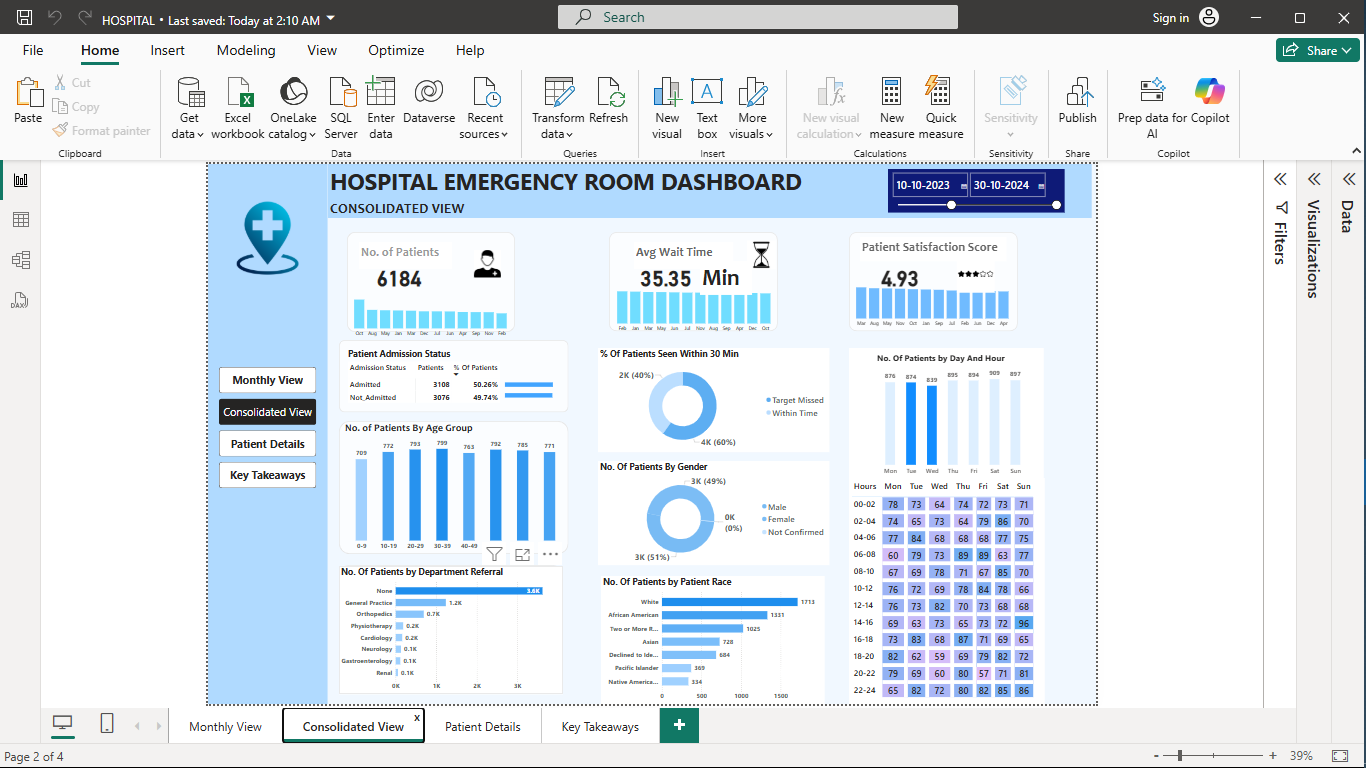

What the dashboard file says about the page in this screenshot:
{"tool":"powerbi","page":{"name":"Consolidated View","canvas":[2300,1400],"ordinal":1},"visuals":[{"type":"shape","box":[0,0,310,1400],"z":0},{"type":"shape","box":[310,0,1980,140],"z":1000},{"type":"textbox","box":[310,0,1247.5,100],"z":2000},{"type":"textbox","box":[310,70,375,107.5],"z":3000},{"type":"shape","box":[360.4,176.3,435.6,259.3],"z":4000},{"type":"card","fields":{"Values":["Date Table.No. Of Patients"]},"box":[412.2,238.5,165.9,101.1],"z":5000},{"type":"slicer","fields":{"Values":["Date Table.Date"]},"box":[1762.5,12.5,457.5,112.5],"z":6000},{"type":"textbox","box":[391.5,202.2,241.1,70],"z":7000},{"type":"clusteredColumnChart","fields":{"Y":["Date Table.No. Of Patients"],"Category":["Date Table.Month"]},"box":[360.4,321.5,433,134.8],"z":8000},{"type":"shape","box":[1040,175,437.5,257.5],"z":9000},{"type":"shape","box":[1662.5,177.5,437.5,257.5],"z":10000},{"type":"textbox","box":[1104.4,202.2,256.7,70],"z":11000},{"type":"card","fields":{"Values":["Avg(Hospital ER_Data.Patient Waittime)"]},"box":[1104.4,238.5,165.9,101.1],"z":12000},{"type":"clusteredColumnChart","fields":{"Category":["Date Table.Month"],"Y":["Avg(Hospital ER_Data.Patient Waittime)"]},"box":[1042.5,307.5,435,135],"z":13000},{"type":"textbox","box":[1275.6,251.5,134.8,88.1],"z":14000},{"type":"textbox","box":[1690,190,380,62.5],"z":15000},{"type":"card","fields":{"Values":["Avg(Hospital ER_Data.Patient Satisfaction Score)"]},"box":[1710,237.5,165,102.5],"z":16000},{"type":"clusteredColumnChart","fields":{"Category":["Date Table.Month"],"Y":["Avg(Hospital ER_Data.Patient Satisfaction Score)"]},"box":[1662.5,295,432.5,135],"z":17000},{"type":"shape","box":[340,457.5,595,187.5],"z":18000},{"type":"pivotTable","title":"Patient Admission Status","fields":{"Rows":["Hospital ER_Data.Admission Status"],"Values":["Date Table.No. Of Patients1","Date Table.No. Of Patients"]},"box":[357.5,477.5,407.5,150],"z":19000},{"type":"barChart","fields":{"Category":["Hospital ER_Data.Admission Status"],"Y":["Date Table.No. Of Patients"]},"box":[765,540,170,87.5],"z":20000},{"type":"shape","box":[340,667.5,595,345],"z":21000},{"type":"clusteredColumnChart","title":"No. of Patients By Age Group","fields":{"Category":["Hospital ER_Data.Age Interval"],"Y":["Date Table.No. Of Patients"]},"box":[350,667.5,585,345],"z":22000},{"type":"shape","box":[340,1040,580,335],"z":23000},{"type":"clusteredBarChart","fields":{"Y":["Date Table.No. Of Patients"],"Category":["Hospital ER_Data.Department Referral"]},"box":[340,1042.5,580,332.5],"z":24000},{"type":"shape","box":[1010,477.5,600,270],"z":25000},{"type":"donutChart","title":"% Of Patients Seen Within 30 Min","fields":{"Category":["Hospital ER_Data.Wait Time status"],"Y":["Date Table.No. Of Patients"]},"box":[1010,477.5,600,270],"z":26000},{"type":"donutChart","title":"No. Of Patients By Gender","fields":{"Y":["Date Table.No. Of Patients"],"Category":["Hospital ER_Data.Patient Gender"]},"box":[1010,770,600,270],"z":27000},{"type":"clusteredBarChart","fields":{"Y":["Date Table.No. Of Patients"],"Category":["Hospital ER_Data.Patient Race"]},"box":[1020,1067.5,580,332.5],"z":28000},{"type":"textbox","box":[1662.5,477.5,505,922.5],"z":29000},{"type":"pivotTable","fields":{"Rows":["Hospital ER_Data.HourInterval"],"Columns":["Date Table.Day Name"],"Values":["Date Table.No. Of Patients"]},"box":[1665,815,505,585],"z":30000},{"type":"columnChart","title":"No. Of Patients by Day And Hour","fields":{"Category":["Date Table.Day Name"],"Y":["Date Table.No. Of Patients"]},"box":[1730,487.5,405,327.5],"z":31000},{"type":"image","box":[1392.5,185,85,102.5],"z":32000},{"type":"image","box":[685,202.5,80,112.5],"z":33000},{"type":"image","box":[55,62.5,200,260],"z":34000},{"type":"image","box":[1932.5,230,117.5,107.5],"z":35000},{"type":"pageNavigator","box":[27.5,525,252.5,315],"z":36000}]}

Visuals, with their boxes on the page's 2300x1400 design canvas (x1, y1, x2, y2). These are canvas units, not pixel positions in the 1366x768 screenshot, which may show the page scaled, cropped or inside an application window:
shape: detection(0, 0, 310, 1400)
shape: detection(310, 0, 2290, 140)
textbox: detection(310, 0, 1558, 100)
textbox: detection(310, 70, 685, 178)
shape: detection(360, 176, 796, 436)
card - Date Table.No. Of Patients: detection(412, 238, 578, 340)
slicer - Date Table.Date: detection(1762, 12, 2220, 125)
textbox: detection(392, 202, 633, 272)
clusteredColumnChart - Date Table.No. Of Patients x Date Table.Month: detection(360, 322, 793, 456)
shape: detection(1040, 175, 1478, 432)
shape: detection(1662, 178, 2100, 435)
textbox: detection(1104, 202, 1361, 272)
card - Avg(Hospital ER_Data.Patient Waittime): detection(1104, 238, 1270, 340)
clusteredColumnChart - Date Table.Month x Avg(Hospital ER_Data.Patient Waittime): detection(1042, 308, 1478, 442)
textbox: detection(1276, 252, 1410, 340)
textbox: detection(1690, 190, 2070, 252)
card - Avg(Hospital ER_Data.Patient Satisfaction Score): detection(1710, 238, 1875, 340)
clusteredColumnChart - Date Table.Month x Avg(Hospital ER_Data.Patient Satisfaction Score): detection(1662, 295, 2095, 430)
shape: detection(340, 458, 935, 645)
"Patient Admission Status" pivotTable: detection(358, 478, 765, 628)
barChart - Hospital ER_Data.Admission Status x Date Table.No. Of Patients: detection(765, 540, 935, 628)
shape: detection(340, 668, 935, 1012)
"No. of Patients By Age Group" clusteredColumnChart: detection(350, 668, 935, 1012)
shape: detection(340, 1040, 920, 1375)
clusteredBarChart - Date Table.No. Of Patients x Hospital ER_Data.Department Referral: detection(340, 1042, 920, 1375)
shape: detection(1010, 478, 1610, 748)
"% Of Patients Seen Within 30 Min" donutChart: detection(1010, 478, 1610, 748)
"No. Of Patients By Gender" donutChart: detection(1010, 770, 1610, 1040)
clusteredBarChart - Date Table.No. Of Patients x Hospital ER_Data.Patient Race: detection(1020, 1068, 1600, 1400)
textbox: detection(1662, 478, 2168, 1400)
pivotTable - Hospital ER_Data.HourInterval x Date Table.Day Name: detection(1665, 815, 2170, 1400)
"No. Of Patients by Day And Hour" columnChart: detection(1730, 488, 2135, 815)
image: detection(1392, 185, 1478, 288)
image: detection(685, 202, 765, 315)
image: detection(55, 62, 255, 322)
image: detection(1932, 230, 2050, 338)
pageNavigator: detection(28, 525, 280, 840)
